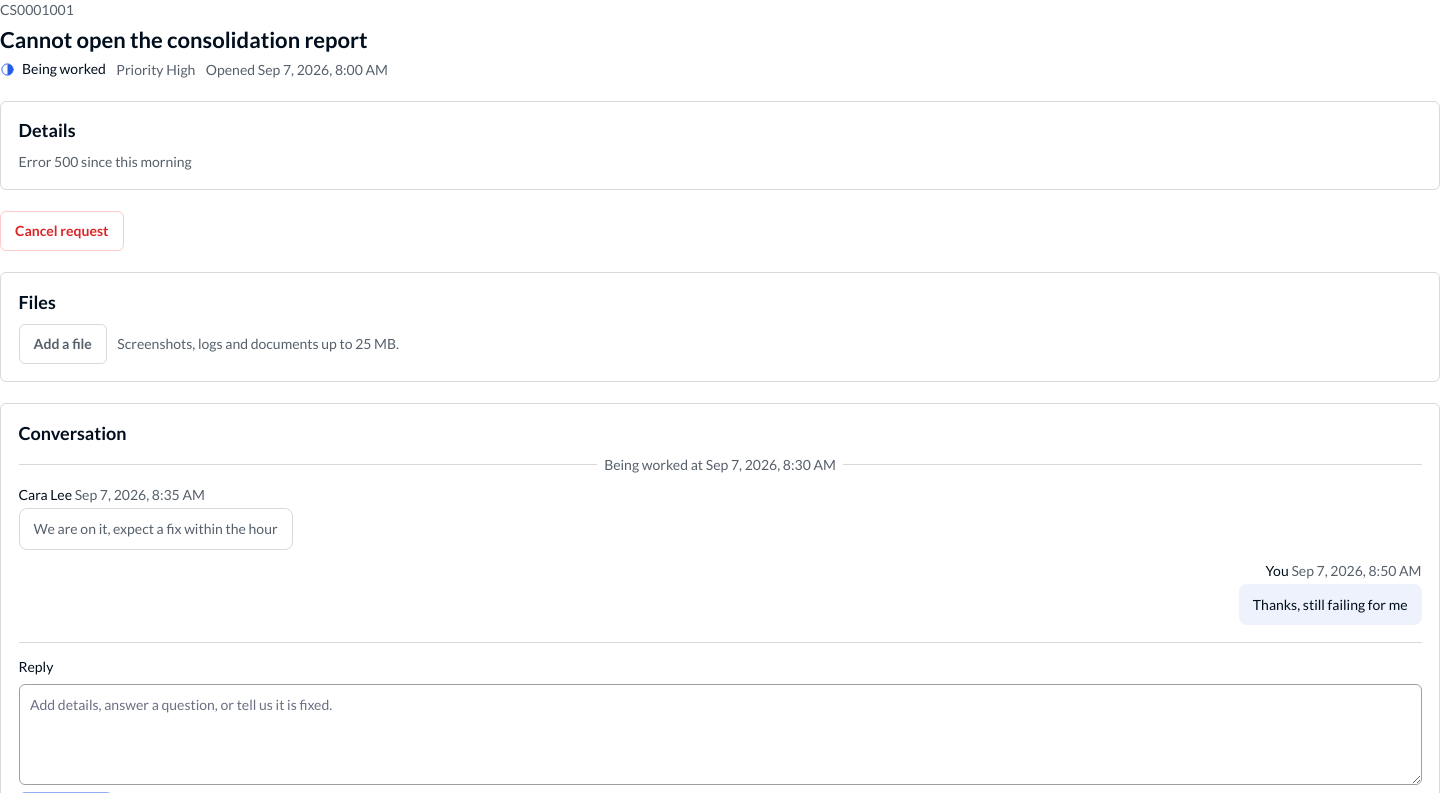
Test case: portal request detail › reloads on a stale version instead of retrying
What coordinates should you click on to do the following:
click the button "Cancel request"
I would click on:
 (62, 231)
Its box is 0,211 -> 124,251.
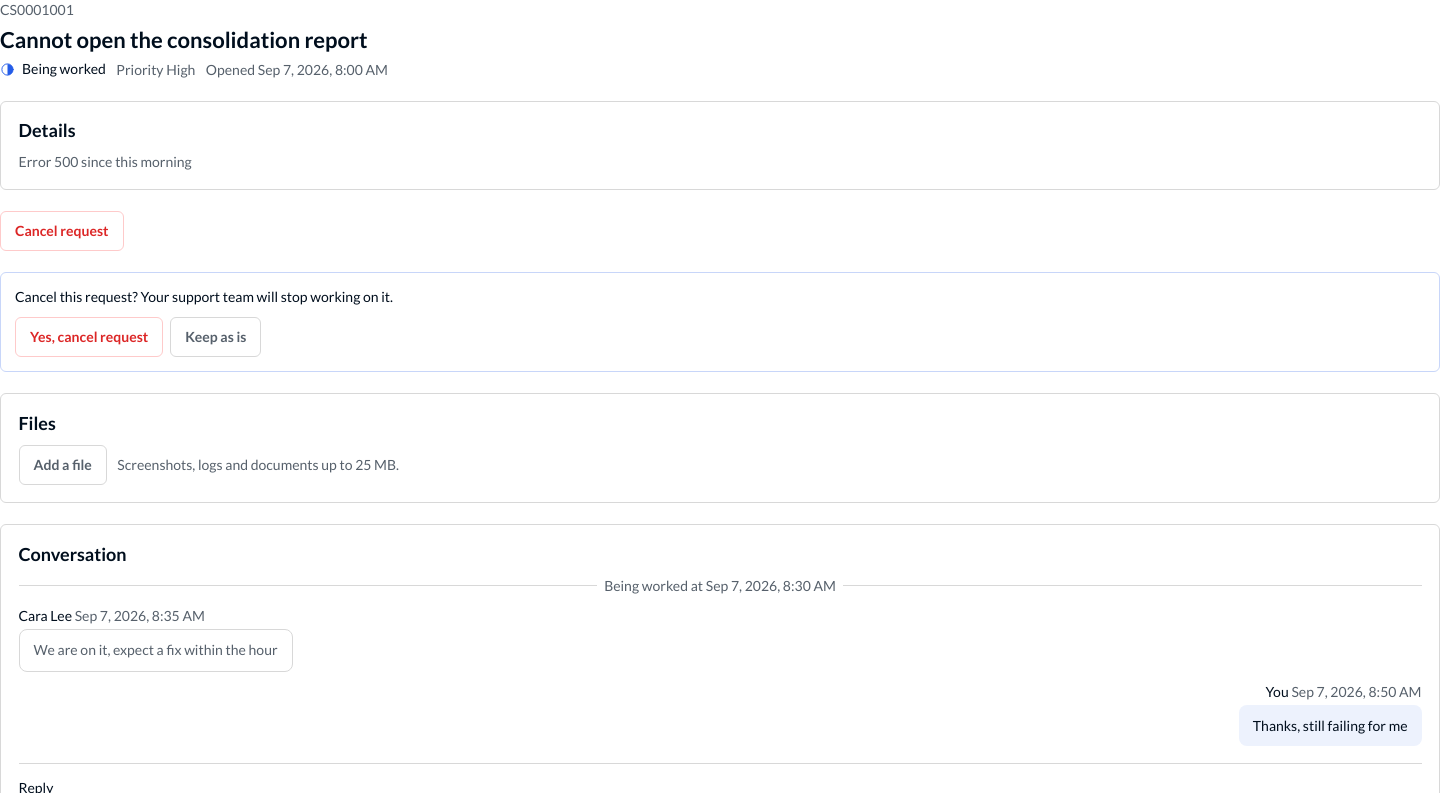
What coordinates should you click on to do the following:
click the button "Yes, cancel request"
I would click on:
 (89, 337)
Its box is 15,317 -> 163,357.
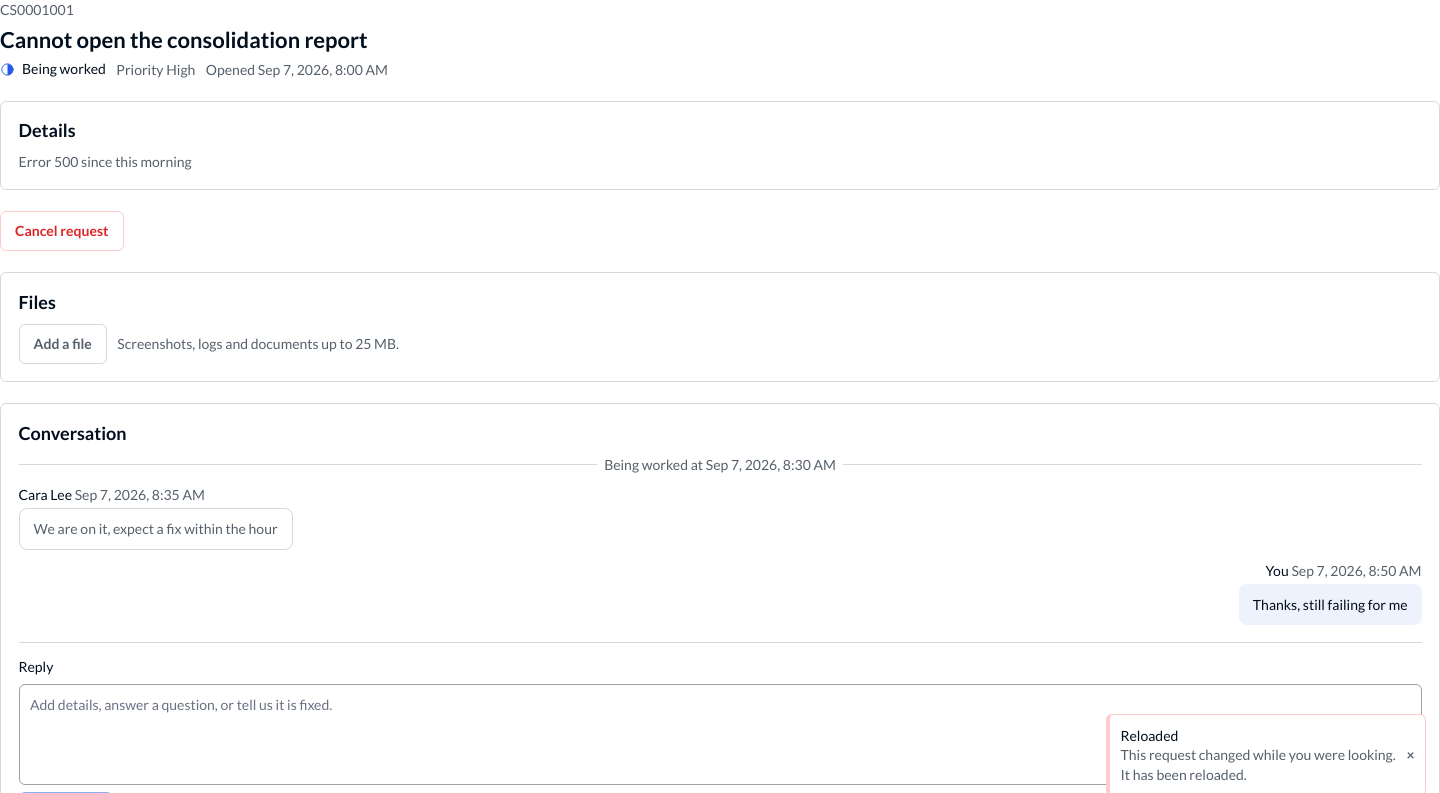
Now the text "Reloaded" is shown, box 1120,727 -> 1178,744
